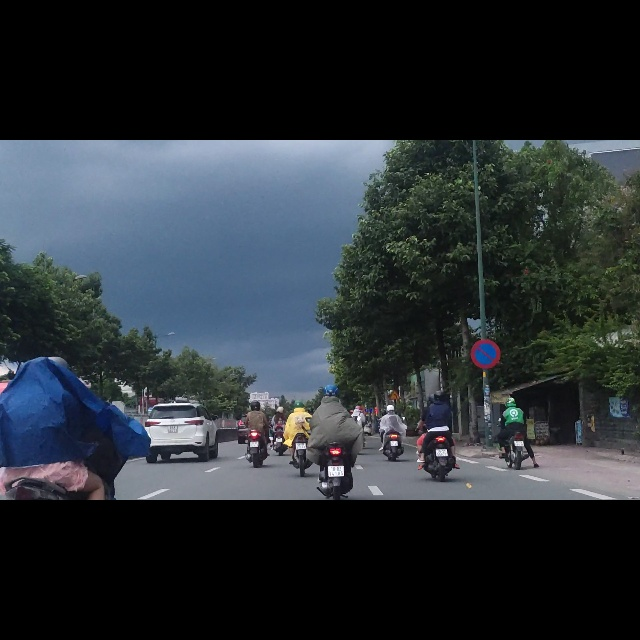bien_cam: (470, 353, 500, 408), (390, 444, 401, 462)
